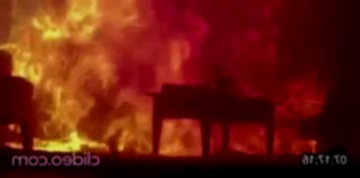fire: (2, 2, 346, 156)
